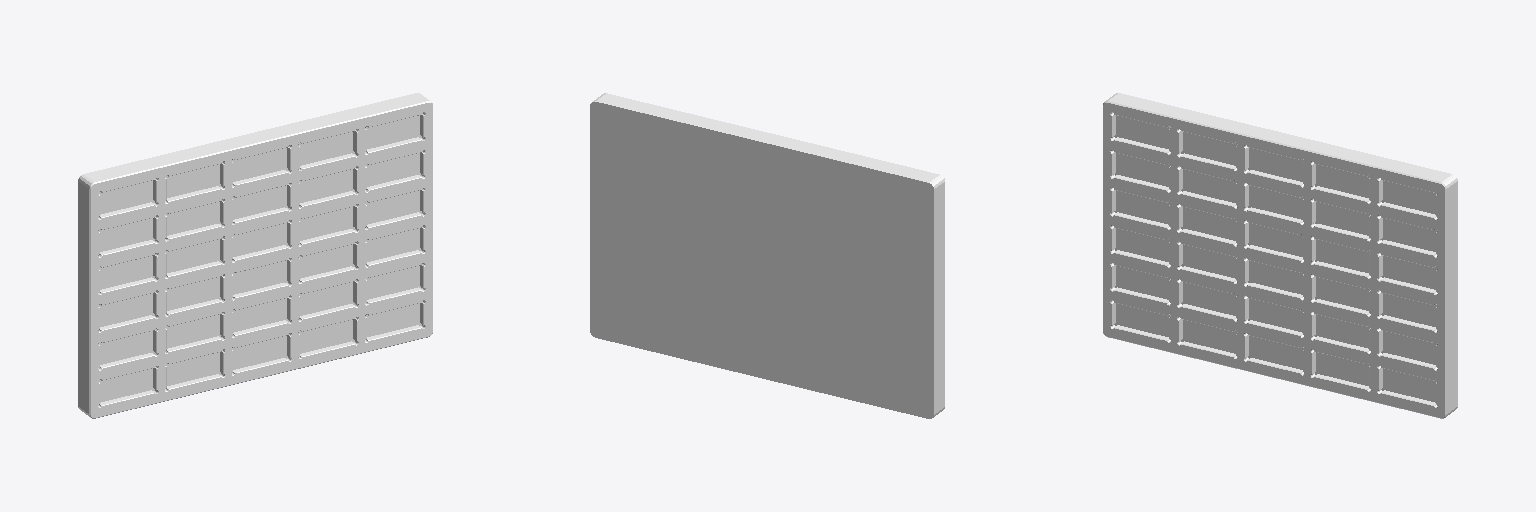
File: LoadingArea_Model.obj
The picture shows the model from 3 angles: view 1: azimuth 30°, elevation 25°; view 2: azimuth 150°, elevation 25°; view 3: azimuth 330°, elevation 25°; orthographic projection.
Bounding box in the file's own units: 335 × 220 × 20.